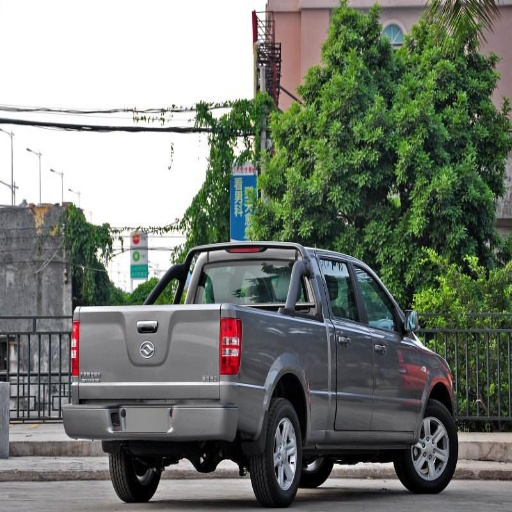_background_: (73, 404, 206, 438)
back_bumper: (222, 260, 276, 288), (149, 269, 187, 302)
back_left_light: (292, 252, 372, 430)
front_left_light: (353, 262, 426, 430)
tailgate: (79, 305, 329, 440)
trunk: (252, 399, 306, 507), (397, 400, 456, 493), (110, 447, 161, 503)
